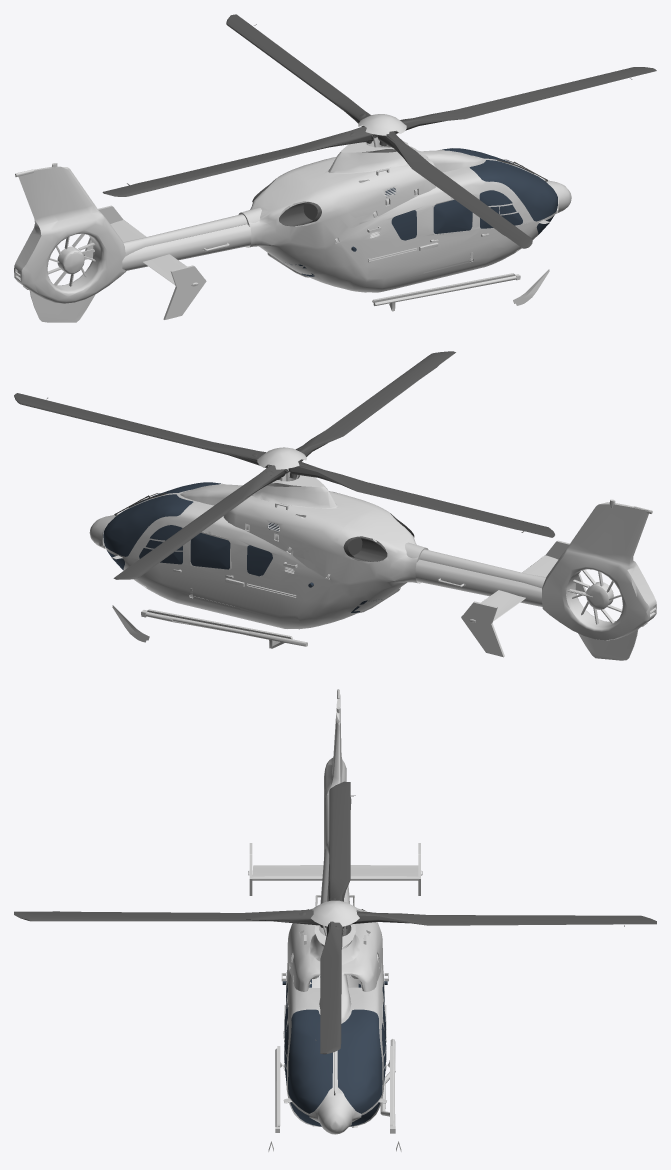
3 views of the same model, one above another, from view 1: azimuth 30°, elevation 25°; view 2: azimuth 150°, elevation 25°; view 3: azimuth 270°, elevation 25° (orthographic). The views are drawn at different scales.
Parts seen in each view (by area): view 1: body, spin, glass, trim; view 2: body, spin, glass, trim; view 3: body, spin, glass.
Boxes of the visible parts, <box> form: body: <box>14,114,571,322</box>; spin: <box>102,14,656,248</box>; glass: <box>290,148,557,276</box>; trim: <box>252,159,547,226</box>; body: <box>89,447,656,660</box>; spin: <box>14,351,554,579</box>; glass: <box>103,482,381,612</box>; trim: <box>114,493,414,561</box>; body: <box>248,689,422,1151</box>; spin: <box>14,781,656,1054</box>; glass: <box>282,977,387,1126</box>.
Bounding box in the file's own units: 2.2 × 0.7376 × 1.88.
